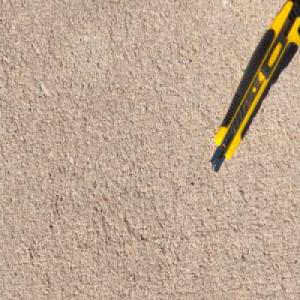Cutter: (209, 0, 300, 175)
